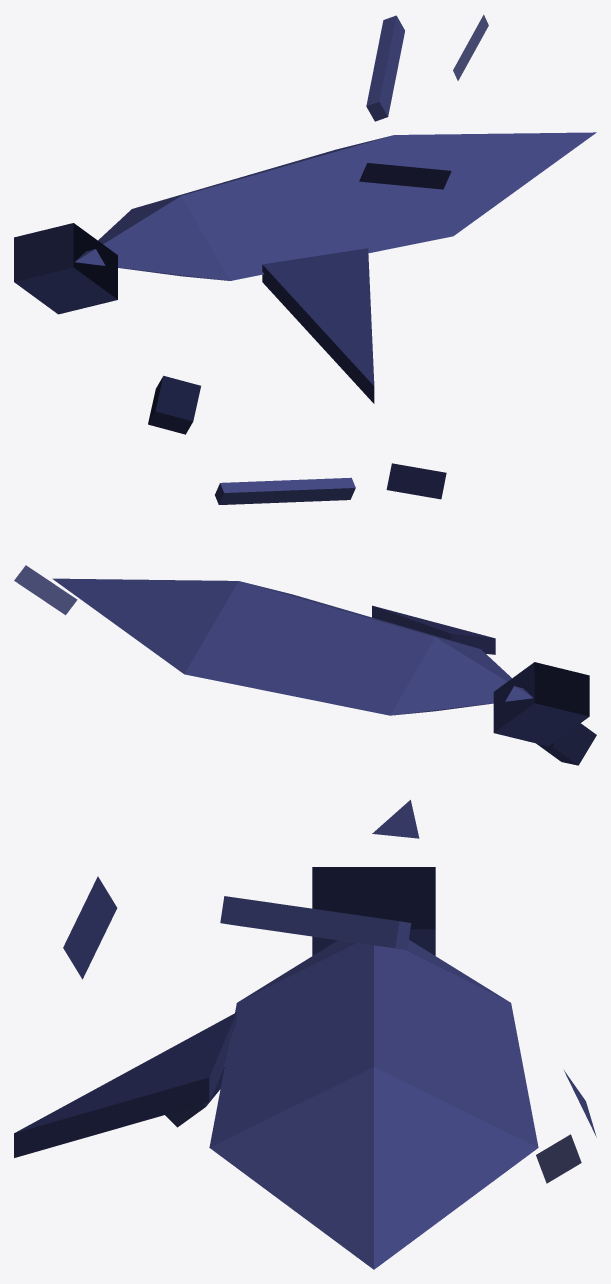
File: ghost_wreck.glb
3 views of the same model, one above another, from view 1: azimuth 30°, elevation 25°; view 2: azimuth 150°, elevation 25°; view 3: azimuth 270°, elevation 25° (orthographic). The views are drawn at different scales.
Visible parts, largest first — view 1: ghost_wreck; view 2: ghost_wreck; view 3: ghost_wreck.
Part boxes in pixels (left/top/right/bottom): ghost_wreck: left=14, top=14, right=596, bottom=434; ghost_wreck: left=14, top=463, right=596, bottom=838; ghost_wreck: left=14, top=867, right=596, bottom=1269.
Bounding box in the file's own units: 2.63 × 1.3 × 1.7.
